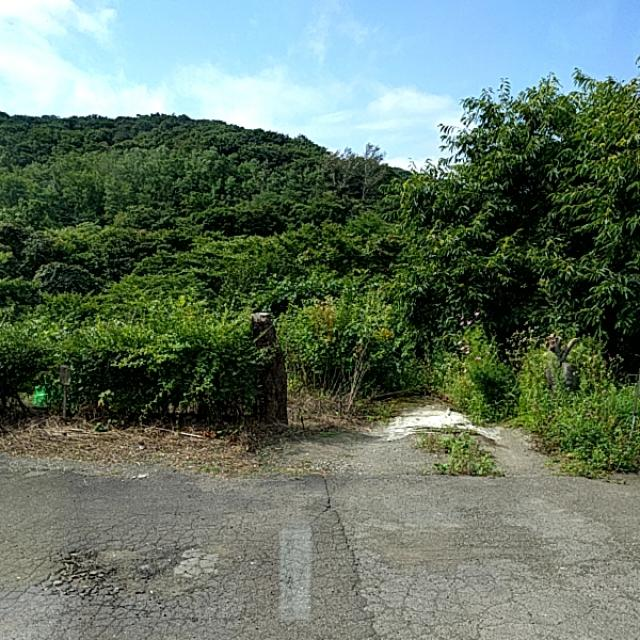pothole: (319, 507, 624, 638), (48, 518, 263, 616)
